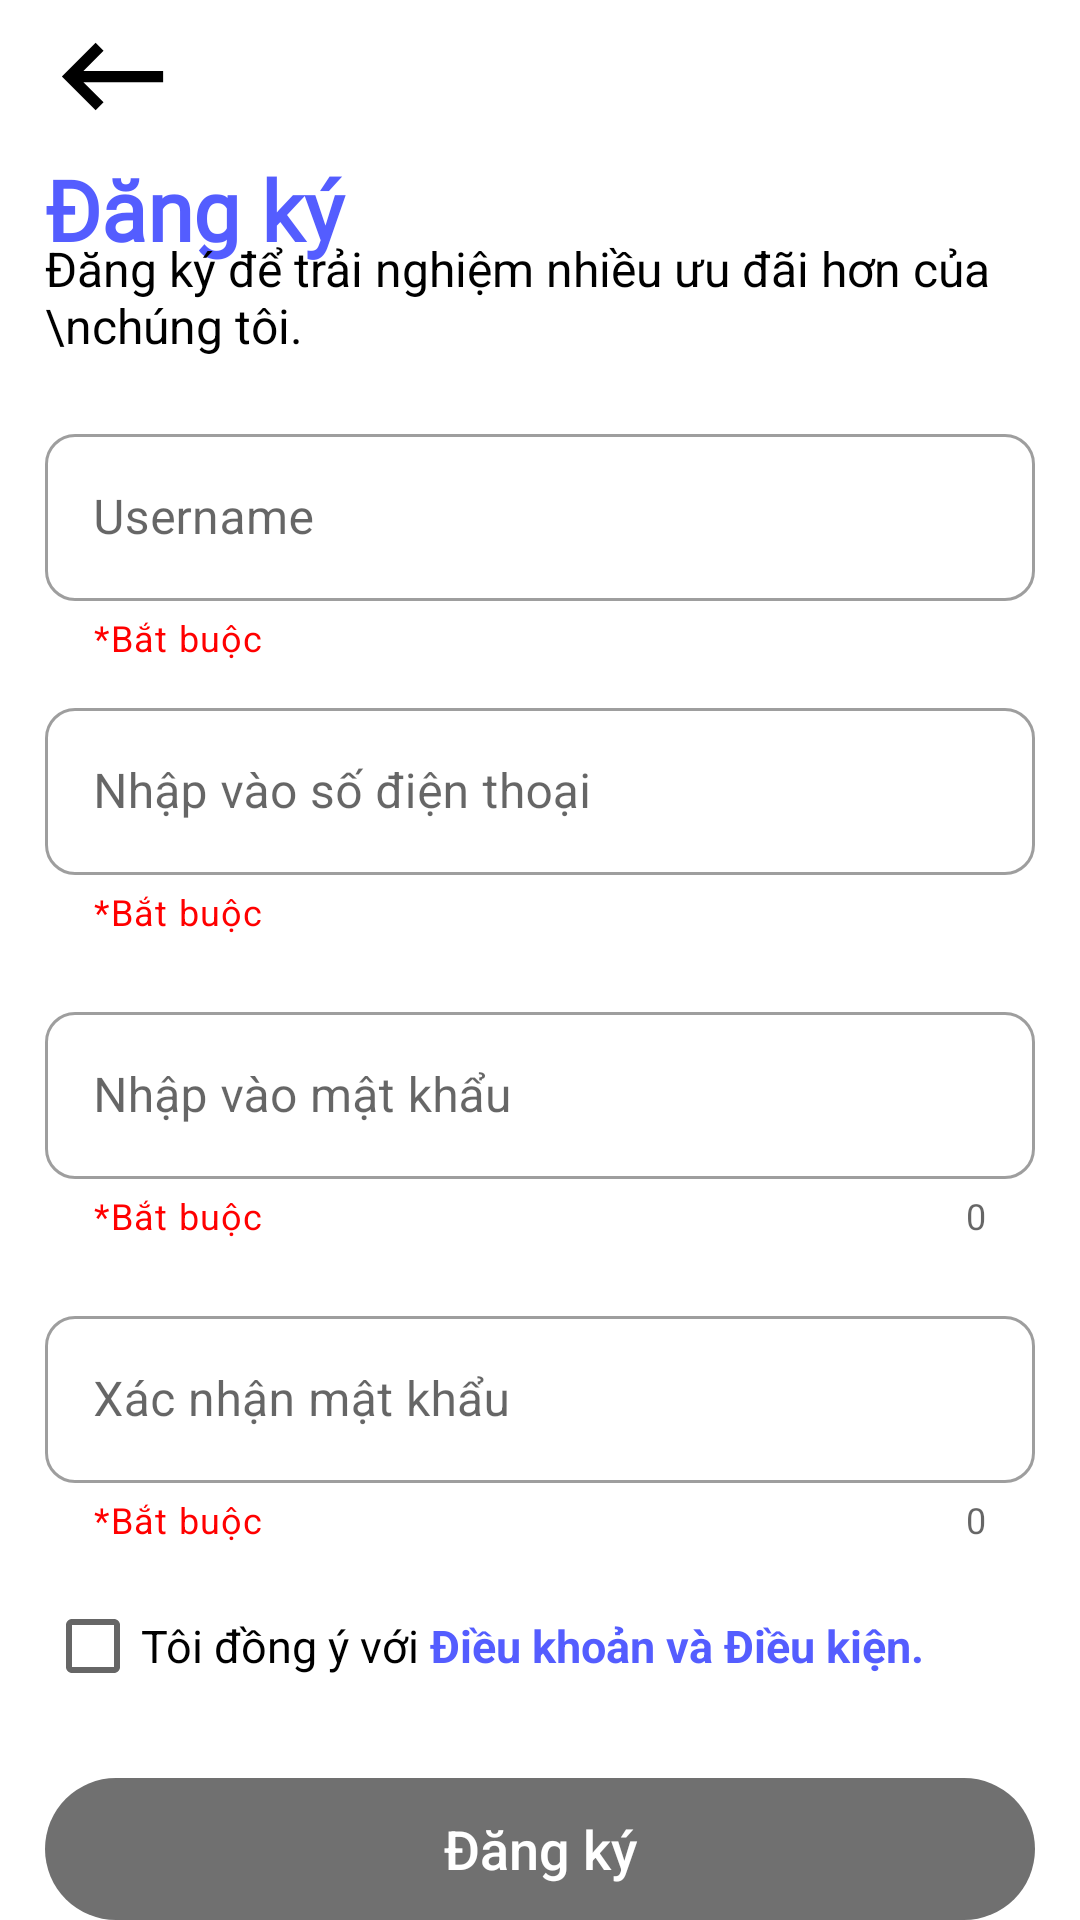

Where icons sit on this 1080px×1920px app screen, as (x1, y1, x2, y2):
keyboard backspace: (62, 43, 164, 110)
